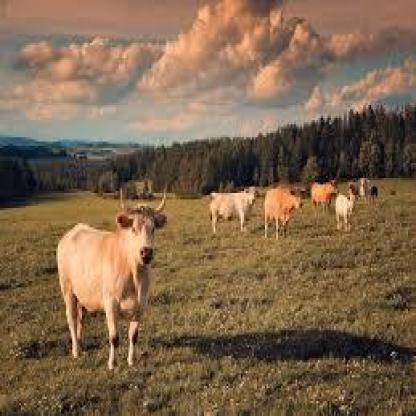cow: (56, 187, 167, 371), (208, 186, 263, 232), (263, 183, 307, 237), (334, 186, 358, 232), (311, 179, 338, 213), (358, 175, 368, 200), (368, 184, 380, 200)
